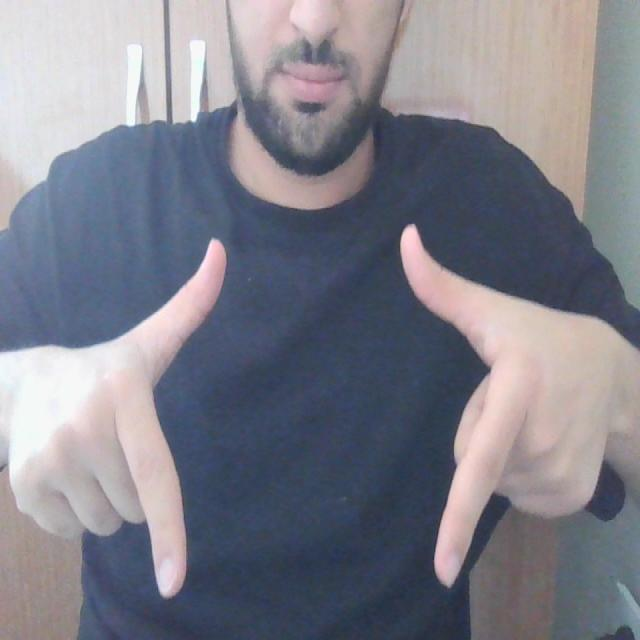Nerede: (106, 210, 544, 605)
